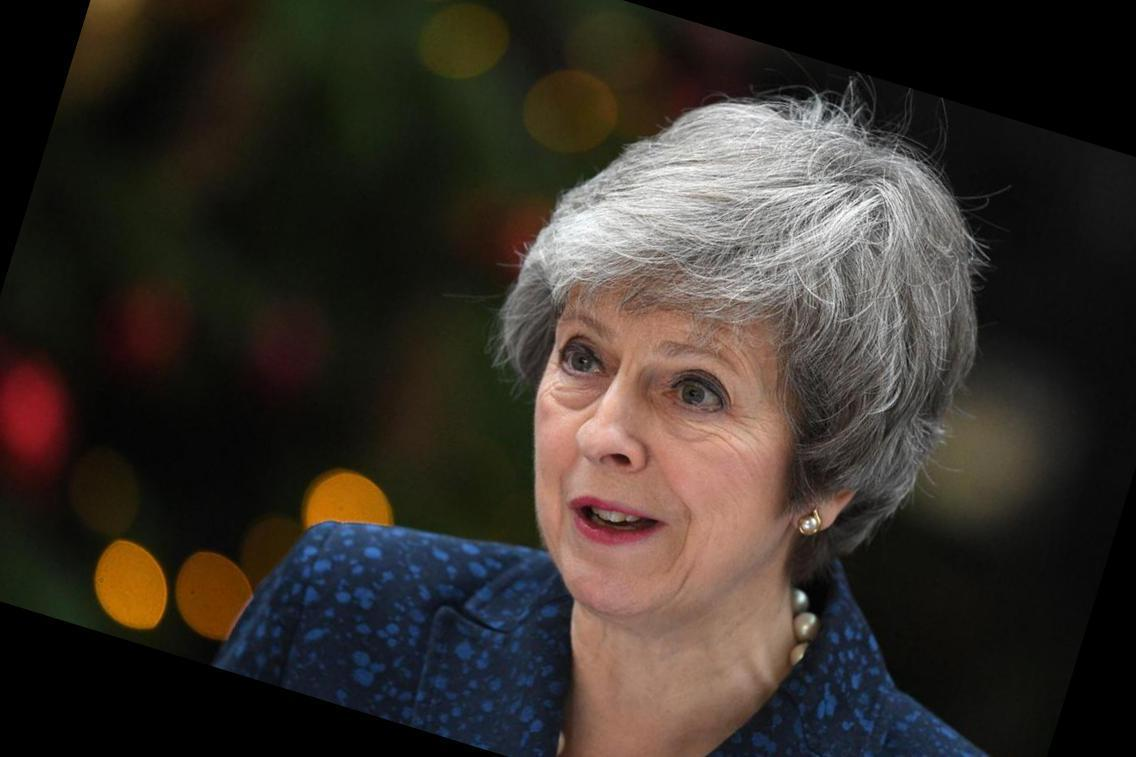Sober: (544, 284, 785, 608)
